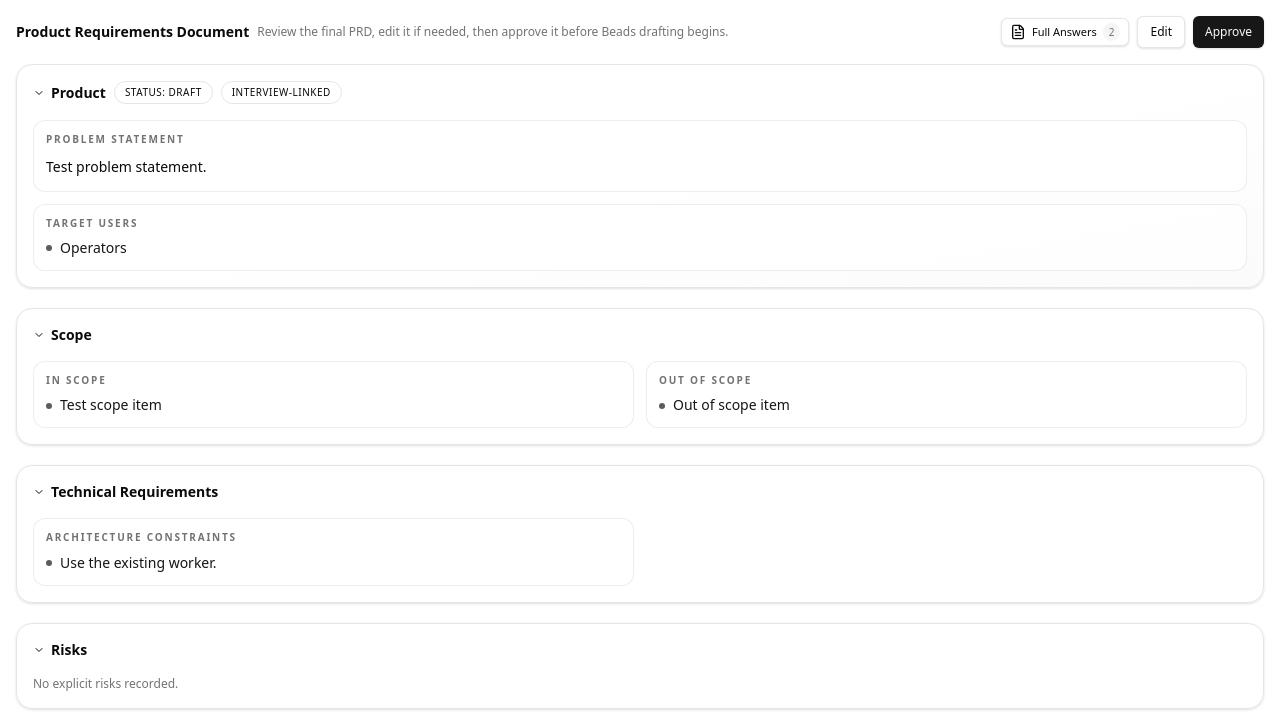
Test case: PrdApprovalPane › shows the winning model full answers artifact as a compact read-only chip
Expected: the text "Test problem statement." is shown, [46,157,206,176]
Step 1. Click the button "Full Answers 2" → coordinates (1065, 32), box [1001,18,1129,46]
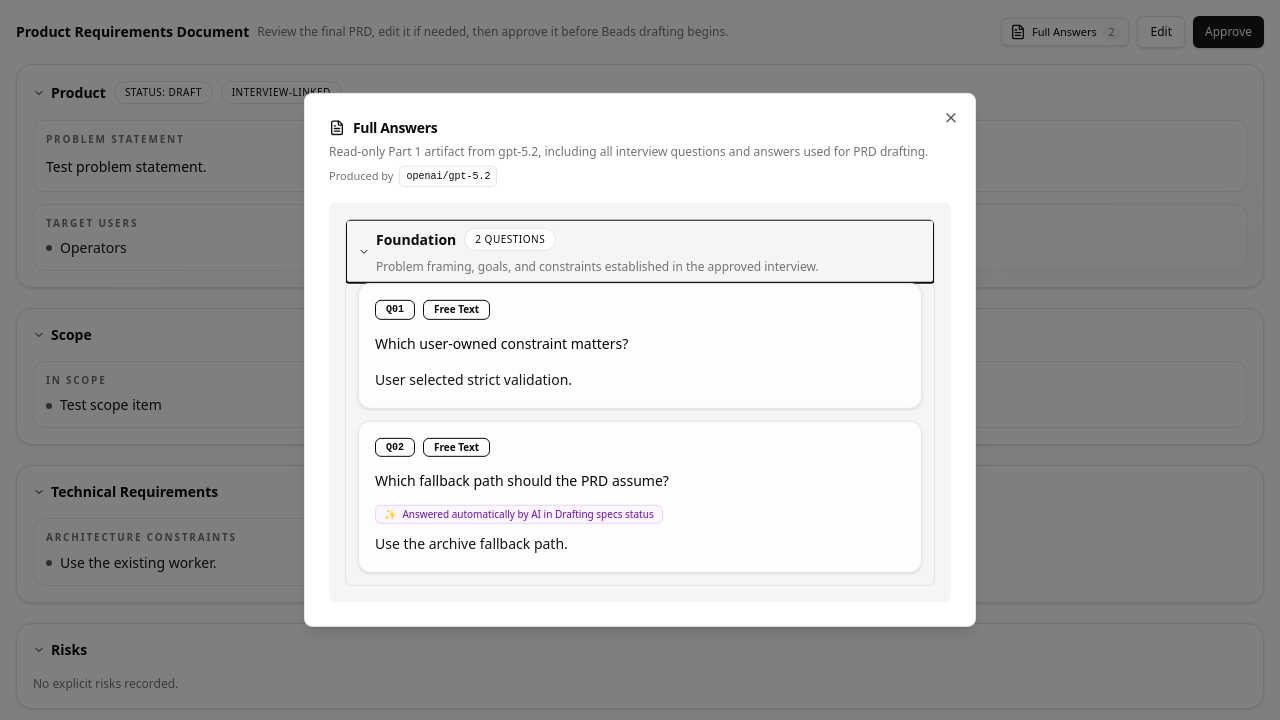
Expected: the dialog is shown, [304,93,976,627]
Expected: the text "Produced by" is shown, [329,168,394,185]
Expected: the text "openai/gpt-5.2" is shown, [400,166,498,187]
